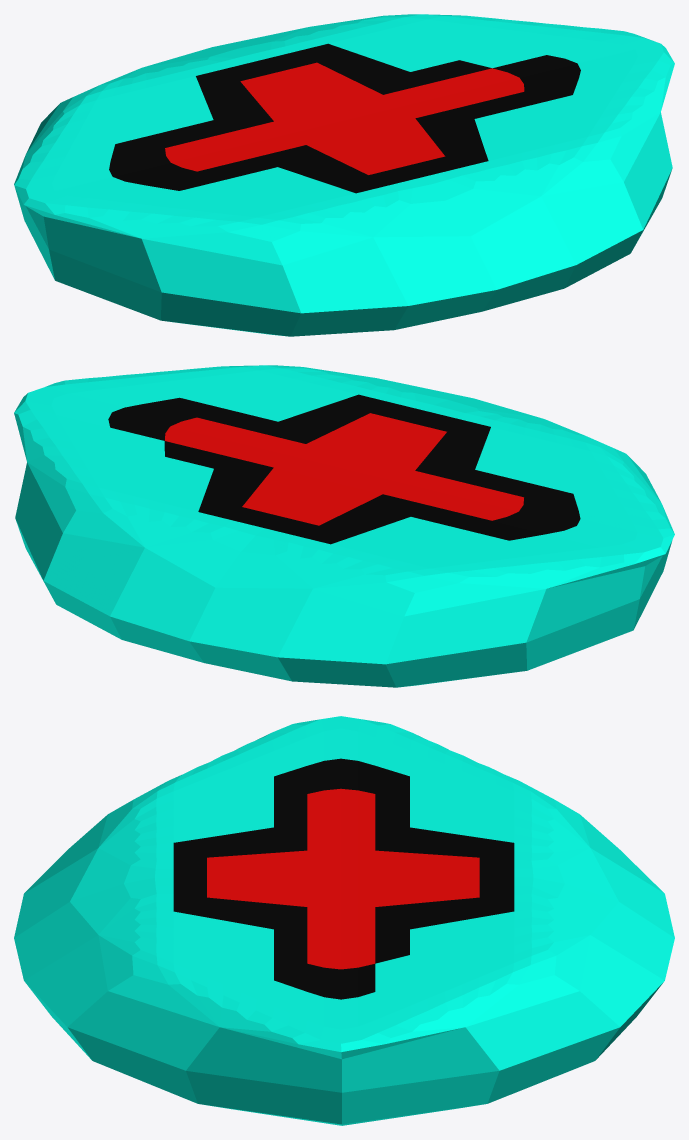
The model's file is HealthPack.fbx.
3 views of the same model, one above another, from view 1: azimuth 30°, elevation 25°; view 2: azimuth 150°, elevation 25°; view 3: azimuth 270°, elevation 25° (orthographic). The views are drawn at different scales.
Parts seen in each view (by area): view 1: Cube; view 2: Cube; view 3: Cube.
Boxes of the visible parts, x1,y1,x2,y2 form: Cube: (14,14,674,336); Cube: (14,365,674,687); Cube: (14,716,674,1125).
Bounding box in the file's own units: 117 × 21.5 × 97.88.
